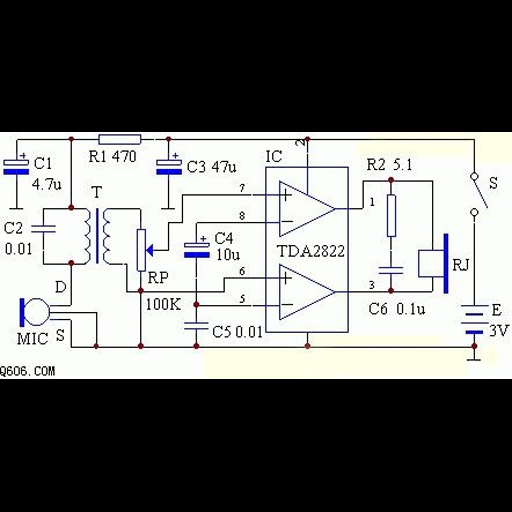amplifier: (277, 176, 338, 239), (277, 262, 340, 322)
battery: (459, 302, 490, 338)
capacitor: (181, 317, 209, 335), (29, 221, 60, 237), (375, 265, 407, 277)
firstresistance: (384, 192, 402, 240), (94, 133, 148, 146)
transformer: (79, 208, 119, 265)
